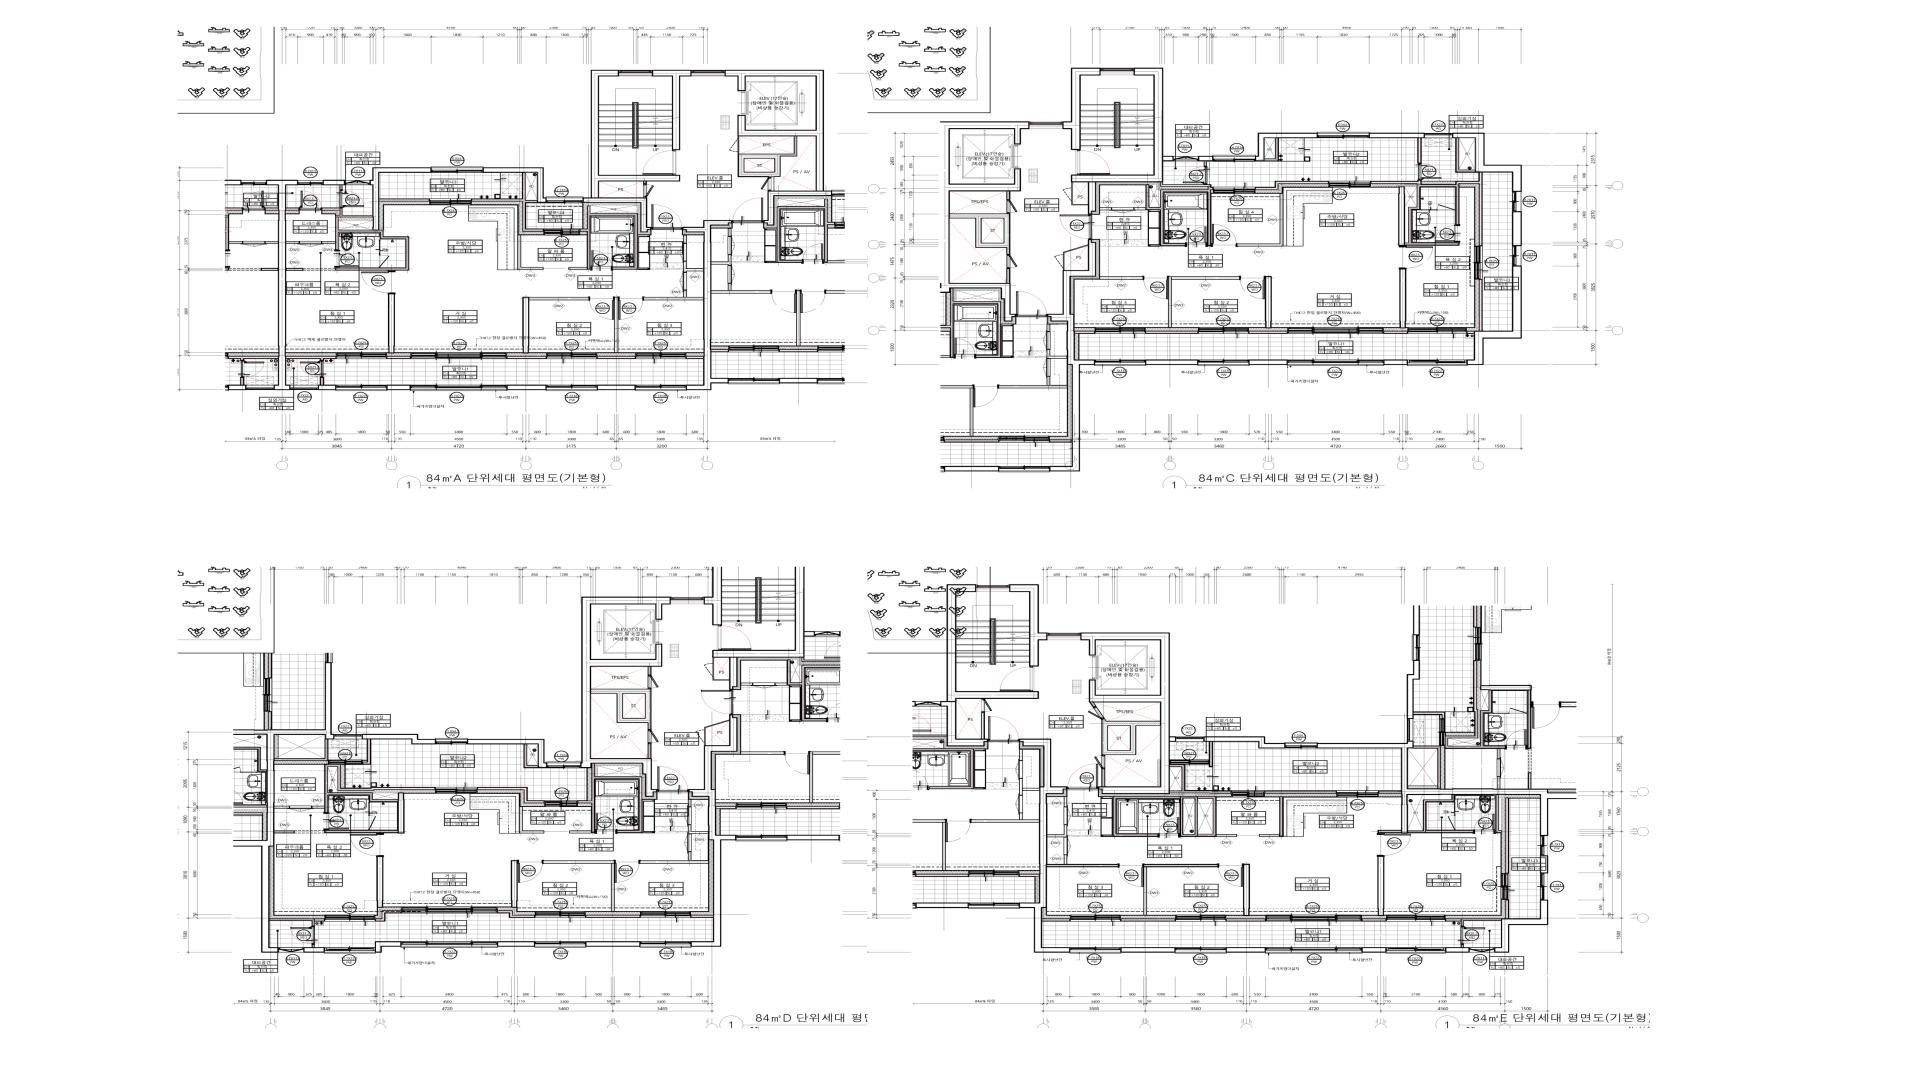door: (1076, 149, 1110, 175), (642, 150, 676, 175), (717, 625, 752, 650), (1067, 764, 1098, 790), (651, 204, 683, 231), (1059, 215, 1092, 240), (1377, 833, 1411, 857), (1000, 667, 1034, 691), (361, 270, 396, 294), (1399, 245, 1433, 269), (658, 766, 688, 793), (351, 833, 384, 857), (617, 297, 645, 320), (615, 860, 641, 884), (517, 860, 543, 884), (1218, 864, 1244, 887), (1118, 864, 1143, 887), (589, 297, 615, 320), (1240, 276, 1265, 299), (1143, 276, 1168, 299), (1212, 224, 1237, 247), (1461, 926, 1486, 945), (1435, 224, 1461, 243), (591, 251, 613, 272), (299, 190, 322, 211), (290, 926, 315, 944), (1183, 166, 1208, 185), (323, 812, 349, 829), (595, 814, 617, 833), (1158, 818, 1180, 837), (1185, 227, 1208, 247), (339, 190, 364, 207), (334, 251, 359, 268), (1474, 814, 1495, 833), (1418, 164, 1441, 181), (299, 361, 324, 377), (1085, 707, 1105, 720), (729, 136, 740, 154), (647, 674, 659, 688), (644, 182, 654, 198), (1006, 255, 1018, 268), (1006, 200, 1018, 214), (647, 729, 658, 744), (290, 806, 313, 812), (1112, 207, 1134, 214), (1095, 756, 1105, 769), (981, 699, 992, 712), (378, 255, 389, 268), (1448, 814, 1456, 829), (1437, 204, 1456, 211), (299, 241, 322, 247), (368, 815, 376, 829)
wall: (1316, 741, 1548, 836), (582, 596, 671, 796), (940, 121, 1030, 322), (725, 70, 832, 225), (261, 731, 334, 953), (583, 70, 680, 232), (1081, 633, 1176, 794), (1071, 67, 1174, 214), (947, 584, 1039, 746), (712, 543, 804, 690), (688, 715, 737, 947), (1019, 738, 1071, 953), (683, 220, 733, 390), (1370, 173, 1482, 247), (266, 179, 298, 390), (1047, 239, 1096, 365), (1466, 266, 1523, 365), (324, 765, 435, 812), (578, 764, 642, 833), (1146, 182, 1215, 247), (471, 173, 545, 232), (1113, 796, 1217, 837), (1453, 133, 1522, 193), (369, 167, 431, 231), (335, 218, 409, 270), (522, 297, 589, 353), (1143, 864, 1217, 915), (580, 206, 638, 269), (543, 861, 615, 913), (1168, 277, 1240, 327), (651, 70, 692, 150), (1063, 67, 1101, 150), (704, 543, 742, 625), (1010, 584, 1047, 667), (1494, 899, 1548, 953), (1408, 795, 1474, 833), (949, 214, 1010, 255), (467, 738, 547, 769), (1238, 194, 1283, 247), (483, 167, 547, 203), (1101, 719, 1160, 756), (1170, 765, 1232, 794), (1257, 133, 1319, 162), (274, 740, 328, 761), (1204, 736, 1286, 749), (477, 787, 545, 803), (517, 235, 543, 270), (1047, 855, 1118, 868), (361, 733, 436, 745), (640, 852, 708, 864), (520, 806, 545, 833), (1255, 181, 1329, 190), (1456, 138, 1476, 173), (644, 290, 703, 301), (981, 219, 1004, 243), (642, 799, 655, 833), (1071, 182, 1088, 206), (376, 857, 384, 907), (1399, 269, 1406, 328), (388, 294, 394, 352), (1378, 857, 1385, 915), (336, 207, 372, 218), (1121, 947, 1176, 953), (269, 919, 314, 927), (1265, 276, 1271, 328), (524, 745, 538, 769), (1265, 138, 1279, 162), (1244, 864, 1250, 915), (375, 910, 402, 922), (375, 942, 402, 953), (1513, 211, 1522, 247), (397, 793, 405, 833), (510, 860, 517, 907), (1399, 187, 1404, 245), (497, 910, 535, 918), (1369, 133, 1425, 138), (1506, 798, 1510, 873), (324, 829, 398, 833), (585, 942, 641, 947), (1265, 790, 1337, 794), (1146, 360, 1199, 365), (286, 356, 336, 361), (1461, 919, 1501, 926), (1047, 824, 1067, 837), (1495, 795, 1502, 833), (683, 261, 703, 273), (363, 740, 372, 765), (615, 297, 618, 353), (1279, 796, 1284, 837), (1225, 948, 1266, 953), (506, 385, 546, 390), (688, 824, 708, 835), (1249, 360, 1288, 365), (597, 385, 636, 390), (497, 942, 535, 947), (1362, 947, 1387, 953), (1445, 947, 1470, 953), (1120, 919, 1176, 922), (323, 179, 345, 186), (585, 915, 641, 918), (1145, 331, 1199, 334), (303, 947, 324, 953), (1540, 856, 1548, 873), (1480, 280, 1482, 331), (380, 199, 430, 202), (386, 385, 411, 390), (1383, 360, 1408, 365), (1100, 277, 1143, 280), (1225, 919, 1267, 922), (506, 356, 547, 359), (596, 356, 636, 359), (981, 712, 985, 738), (1249, 331, 1288, 334), (1209, 742, 1213, 767), (1418, 138, 1422, 164), (318, 385, 336, 390), (1378, 829, 1402, 833), (1378, 790, 1402, 794), (1506, 899, 1510, 919), (1042, 919, 1071, 922), (1199, 156, 1213, 161), (322, 207, 340, 211), (1361, 919, 1387, 922), (1101, 769, 1105, 786), (386, 356, 411, 359), (1383, 331, 1408, 334), (690, 915, 713, 918), (1006, 269, 1010, 284), (570, 831, 591, 833), (1075, 331, 1096, 334), (274, 831, 294, 833), (1259, 835, 1279, 837), (1217, 835, 1237, 837), (568, 268, 587, 270), (1134, 207, 1146, 211), (1100, 207, 1112, 211), (286, 268, 303, 270), (686, 356, 703, 359), (319, 377, 324, 385), (274, 806, 290, 808), (1445, 919, 1461, 922), (1089, 703, 1097, 708), (683, 235, 687, 244), (1006, 191, 1010, 200), (286, 241, 299, 244), (322, 241, 335, 244), (286, 208, 299, 211), (688, 799, 692, 807), (313, 806, 324, 808), (1101, 835, 1113, 837), (1101, 796, 1113, 799), (1064, 796, 1067, 807), (315, 919, 324, 922), (1466, 331, 1474, 334), (1147, 245, 1160, 247), (339, 186, 343, 190), (311, 944, 315, 947), (363, 760, 367, 762), (1461, 945, 1464, 947)
window: (410, 385, 506, 392), (402, 942, 497, 948), (402, 907, 497, 914), (1266, 915, 1361, 922), (411, 352, 506, 359), (1288, 360, 1383, 367), (1288, 327, 1383, 334), (1266, 948, 1362, 953), (1408, 360, 1468, 367), (1387, 915, 1445, 922), (1408, 327, 1466, 334), (546, 385, 597, 392), (431, 166, 483, 173), (641, 942, 691, 948), (535, 911, 585, 918), (535, 942, 585, 948), (1176, 947, 1226, 953), (1071, 915, 1121, 922), (336, 352, 386, 359), (636, 352, 686, 359), (636, 385, 686, 392), (1095, 360, 1145, 367), (1199, 360, 1249, 367), (1095, 327, 1145, 334), (1199, 327, 1249, 334), (1319, 132, 1369, 138), (1337, 790, 1378, 798), (641, 911, 690, 918), (326, 915, 375, 922), (1176, 915, 1225, 922), (547, 352, 596, 359), (1387, 948, 1445, 953), (435, 787, 477, 794), (1213, 187, 1255, 194), (1213, 156, 1255, 162), (545, 228, 579, 236), (430, 199, 471, 206), (1329, 181, 1370, 187), (324, 948, 375, 953), (1071, 948, 1121, 953), (336, 385, 386, 390), (1232, 790, 1265, 798), (1474, 247, 1482, 280), (1101, 67, 1134, 75), (1030, 121, 1063, 129), (547, 196, 583, 203), (1501, 874, 1510, 899), (547, 762, 582, 769), (742, 543, 775, 550), (545, 800, 578, 807), (671, 597, 704, 604), (1047, 633, 1080, 640), (976, 585, 1009, 592), (1170, 760, 1209, 765), (1540, 874, 1548, 901), (1286, 742, 1316, 749), (328, 760, 363, 765), (1513, 247, 1522, 265), (1513, 193, 1522, 211), (436, 738, 467, 744), (1540, 836, 1548, 856), (290, 385, 318, 390), (335, 735, 361, 740), (1425, 133, 1452, 138), (1174, 156, 1199, 161), (1176, 737, 1204, 741), (278, 948, 303, 952), (298, 181, 323, 185), (1470, 948, 1494, 952), (345, 181, 369, 185)
